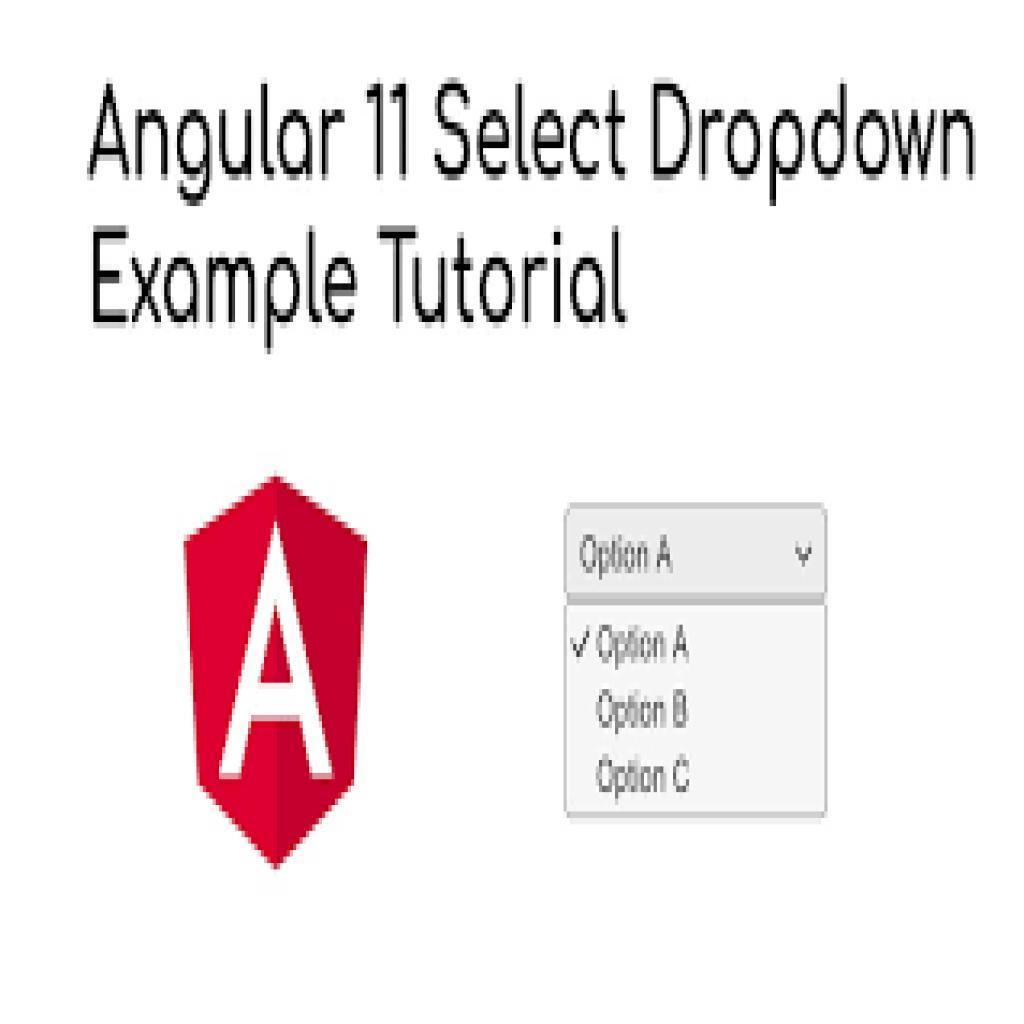dropdown: (564, 503, 831, 603)
